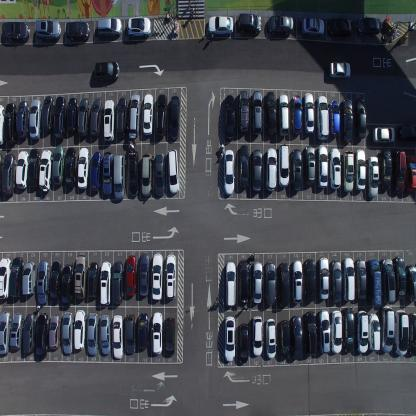car: (367, 257, 382, 308), (380, 257, 396, 303), (380, 305, 395, 353), (394, 309, 409, 356), (38, 148, 53, 193), (315, 94, 329, 140), (1, 21, 30, 43), (317, 309, 331, 354), (9, 256, 24, 298), (93, 59, 119, 83), (113, 152, 126, 200), (34, 18, 61, 41), (2, 152, 16, 196), (340, 149, 354, 193), (392, 256, 406, 300), (128, 92, 141, 139), (342, 306, 355, 353), (237, 11, 262, 35), (277, 142, 290, 188), (304, 310, 317, 356), (74, 254, 87, 300), (223, 147, 235, 196), (36, 312, 48, 361), (341, 97, 354, 142), (356, 309, 369, 354), (330, 309, 343, 354), (127, 150, 139, 198), (152, 253, 164, 301), (89, 97, 103, 138), (22, 313, 36, 354), (155, 93, 168, 137), (342, 257, 355, 301), (111, 260, 124, 304), (49, 259, 62, 303), (167, 147, 179, 194), (15, 150, 29, 190), (367, 312, 381, 352), (29, 98, 42, 141), (127, 15, 151, 38), (54, 95, 66, 141), (103, 98, 115, 144), (264, 90, 276, 136), (316, 143, 328, 189), (278, 262, 290, 308), (224, 260, 236, 306), (224, 316, 236, 362), (0, 255, 12, 301), (207, 15, 233, 36), (27, 146, 40, 188), (354, 258, 367, 300), (4, 101, 16, 146), (77, 145, 89, 190), (112, 314, 124, 359), (36, 260, 48, 305), (77, 96, 90, 137), (9, 312, 23, 350), (302, 91, 314, 135), (394, 149, 406, 193), (367, 155, 379, 199), (328, 146, 340, 190), (251, 148, 263, 192), (74, 308, 86, 352), (96, 17, 122, 37), (64, 20, 90, 40), (165, 254, 176, 301), (90, 150, 102, 193), (380, 148, 392, 191), (354, 148, 366, 191), (61, 264, 73, 307), (301, 15, 324, 37), (224, 94, 235, 140), (265, 260, 276, 306), (116, 96, 128, 138), (169, 95, 180, 140), (141, 152, 152, 197), (278, 92, 289, 137), (291, 259, 302, 304), (291, 315, 302, 360), (152, 311, 163, 356), (139, 252, 150, 297), (100, 260, 111, 305), (0, 311, 11, 356), (268, 15, 294, 34), (48, 312, 61, 350), (17, 99, 29, 140), (64, 147, 76, 188), (53, 144, 65, 185), (265, 318, 277, 359), (154, 153, 165, 197), (102, 151, 113, 195), (238, 89, 249, 133), (304, 143, 315, 187), (291, 148, 302, 192), (266, 148, 277, 192), (330, 260, 341, 304), (304, 258, 315, 302), (238, 260, 249, 304), (126, 253, 137, 297), (88, 312, 99, 356), (62, 311, 73, 355), (372, 124, 395, 145), (357, 16, 381, 36), (66, 96, 78, 136), (87, 260, 99, 300), (318, 257, 329, 300), (327, 18, 353, 36), (42, 95, 54, 134), (22, 260, 35, 296), (142, 94, 153, 136), (355, 97, 366, 139), (125, 313, 136, 355), (291, 94, 302, 135), (279, 319, 290, 360), (252, 315, 263, 356), (100, 314, 111, 355), (252, 89, 262, 134), (328, 60, 350, 80), (239, 144, 249, 188), (252, 260, 262, 304), (164, 317, 175, 357), (329, 99, 340, 138), (138, 312, 149, 351), (239, 323, 249, 365), (405, 153, 415, 194), (396, 123, 416, 143), (406, 263, 416, 303), (408, 312, 415, 358), (0, 103, 5, 147), (0, 152, 4, 194)
